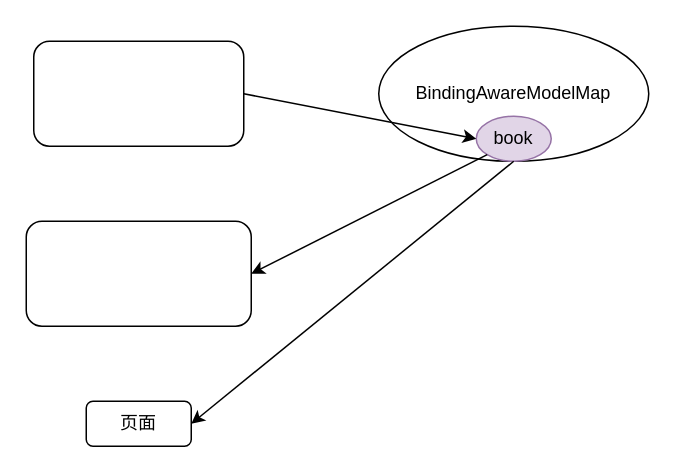
Image size: 675x473. Some labels were removed from this diagram. The shapes that lost their labels are listed below. From the top down, each one's centre as x and y in pixels, then its label:
(x=138, y=93): @ModelAttribute public void getBean(){} 在目标方法前获取了数据库中的book对象
(x=138, y=273): public void targetMethod( @ModelAttribute("book") Book book){}
